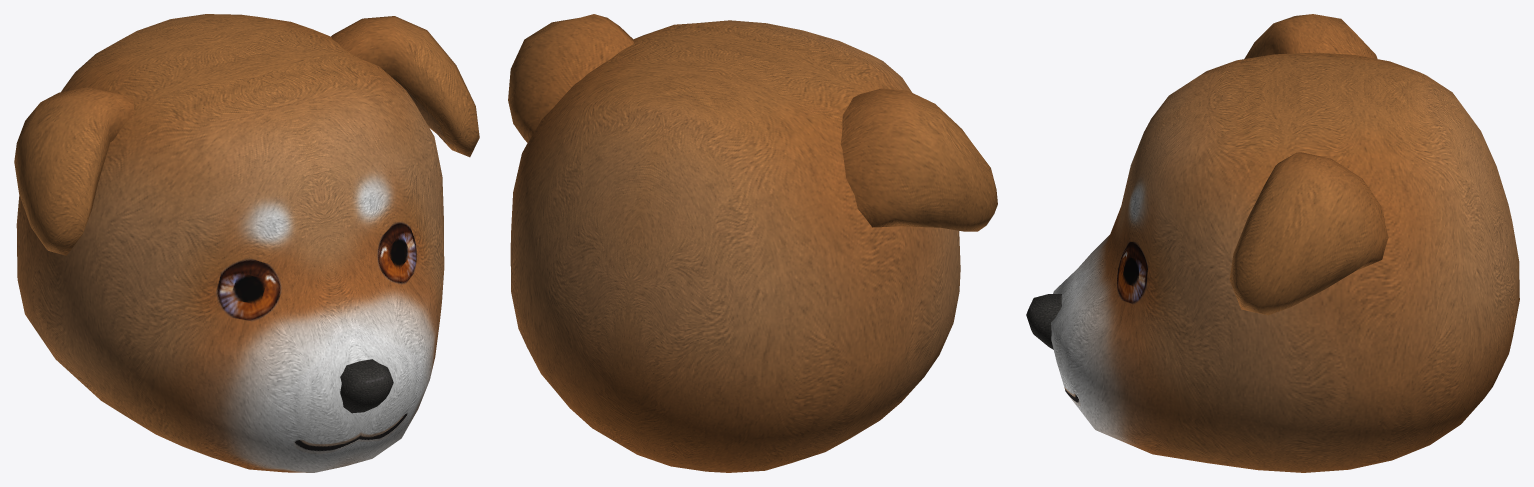
Rendered from CRT0110007.FBX.
3 views of the same model, side by side, from view 1: azimuth 30°, elevation 25°; view 2: azimuth 150°, elevation 25°; view 3: azimuth 270°, elevation 25° (orthographic). The views are drawn at different scales.
Parts seen in each view (by area): view 1: smCRT0110007; view 2: smCRT0110007; view 3: smCRT0110007.
Part boxes in pixels (<box>): smCRT0110007: <box>14,14,479,472</box>; smCRT0110007: <box>508,14,997,472</box>; smCRT0110007: <box>1026,14,1519,472</box>.
Bounding box in the file's own units: 0.1006 × 0.0813 × 0.0995.
Materials: 1 (1 with a texture image).
